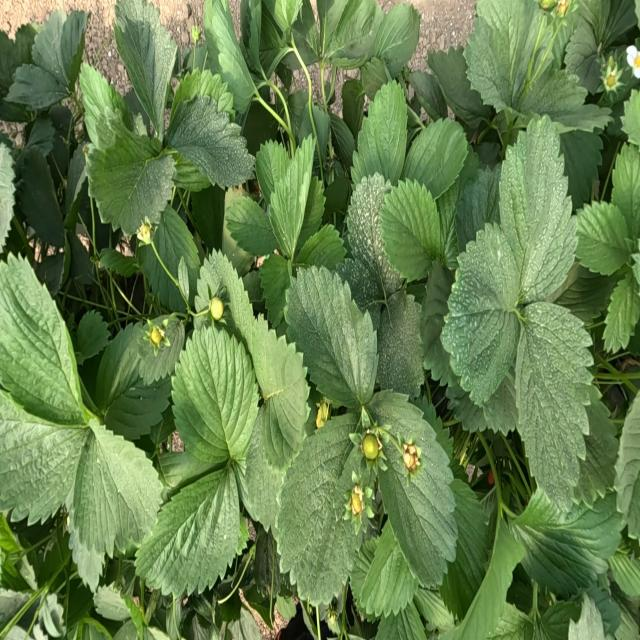Flowers: (626, 47, 639, 79)
Leaves: (372, 391, 456, 585), (516, 304, 594, 512), (277, 415, 362, 605), (498, 120, 576, 304), (136, 462, 240, 597), (443, 227, 520, 405), (0, 260, 81, 424), (285, 267, 376, 407), (172, 326, 258, 468), (72, 422, 162, 557), (0, 391, 88, 522), (513, 490, 619, 591), (95, 321, 182, 439), (89, 121, 175, 235), (444, 520, 525, 638), (113, 0, 176, 136), (465, 1, 542, 111), (247, 315, 309, 449), (167, 95, 254, 188), (440, 475, 495, 620), (345, 173, 401, 302), (258, 135, 315, 259), (233, 403, 285, 530), (194, 250, 259, 350), (139, 206, 199, 312), (380, 180, 440, 281), (520, 68, 611, 132), (204, 2, 254, 112), (354, 80, 406, 184), (572, 391, 619, 503), (404, 118, 467, 199), (361, 523, 416, 615), (377, 289, 423, 397), (428, 45, 488, 127), (66, 480, 106, 591), (446, 374, 517, 434), (21, 148, 64, 247), (33, 9, 87, 87), (420, 261, 454, 384), (576, 201, 631, 275), (79, 62, 124, 150), (456, 161, 500, 250), (0, 24, 37, 121), (373, 2, 419, 78), (325, 0, 383, 60), (170, 68, 234, 120), (560, 133, 601, 208), (556, 267, 614, 320), (225, 194, 275, 255), (614, 392, 639, 509), (603, 272, 639, 353), (6, 64, 68, 111), (565, 20, 602, 92), (415, 395, 453, 458), (612, 153, 639, 240), (294, 225, 345, 270), (259, 2, 288, 76), (260, 254, 290, 325), (375, 600, 427, 639), (192, 186, 224, 249), (297, 177, 325, 249), (413, 587, 455, 631), (532, 601, 580, 639), (75, 311, 110, 363), (410, 70, 447, 119), (170, 148, 211, 191), (254, 526, 279, 596), (350, 540, 377, 604), (292, 0, 318, 64), (568, 596, 605, 639), (609, 547, 640, 597), (490, 603, 531, 639), (1, 144, 15, 247), (67, 230, 94, 283), (330, 114, 356, 169), (342, 79, 364, 143), (94, 583, 130, 619), (35, 252, 64, 295), (66, 145, 85, 210), (100, 248, 142, 277), (0, 588, 30, 626), (39, 593, 64, 638), (25, 119, 55, 155), (292, 91, 313, 139), (313, 105, 330, 160), (243, 270, 264, 305)
Strawberries: (601, 55, 622, 93), (403, 443, 419, 471), (362, 435, 379, 459), (137, 218, 152, 244), (350, 489, 363, 515), (209, 297, 223, 319), (149, 328, 163, 346), (540, 1, 555, 8), (488, 469, 494, 484)
